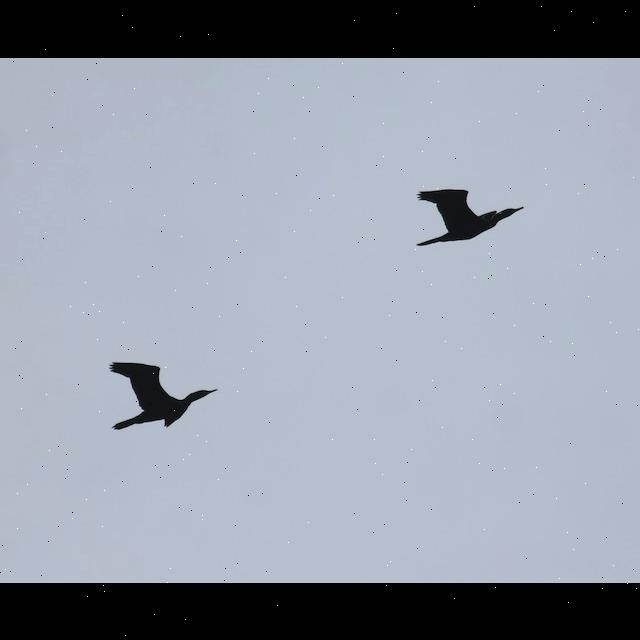cormorant: (105, 352, 218, 436), (412, 178, 524, 250)
